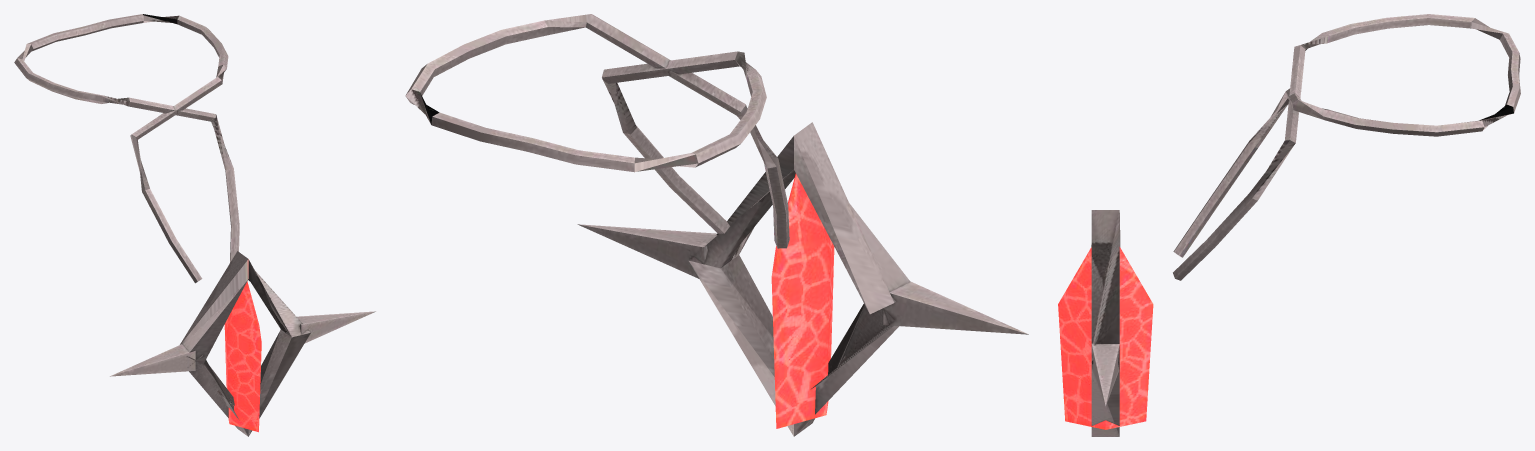
File: Amuleto_de_Fúria_nivel100.glb
3 renders of one model, left to right at view 1: azimuth 30°, elevation 25°; view 2: azimuth 150°, elevation 25°; view 3: azimuth 270°, elevation 25°, orthographic. The views are drawn at different scales.
Parts seen in each view (by area): view 1: amuleto_de_furia_nivel100; view 2: amuleto_de_furia_nivel100; view 3: amuleto_de_furia_nivel100.
Part boxes in pixels (<box>): amuleto_de_furia_nivel100: <box>14,14,375,436</box>; amuleto_de_furia_nivel100: <box>405,14,1028,436</box>; amuleto_de_furia_nivel100: <box>1058,14,1520,436</box>.
Size of the model in its own units: 0.2282 by 0.2355 by 0.2679.
1 material, 1 textured.
